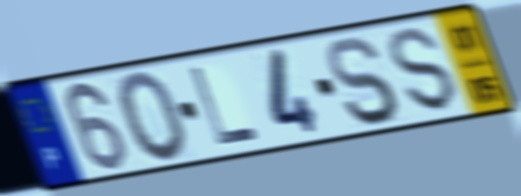4: (267, 44, 326, 140)
6: (64, 79, 129, 175)
L: (186, 64, 264, 149)
O: (116, 68, 191, 167)
S: (323, 33, 402, 128), (387, 25, 461, 115)
